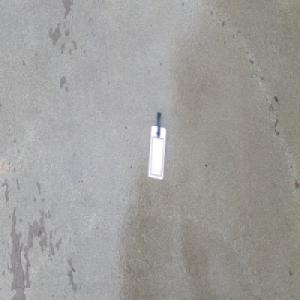LuggageTag: (147, 111, 167, 181)
